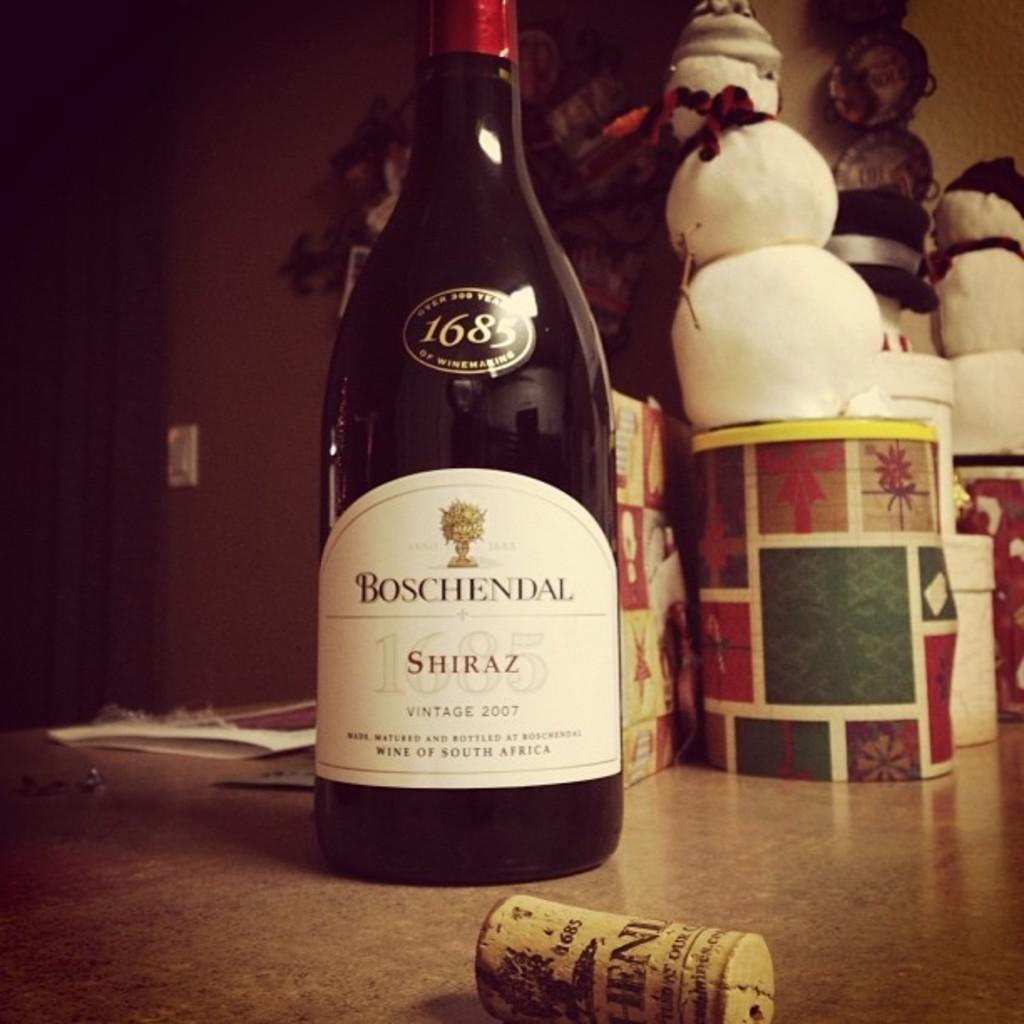bottle-glass: (307, 1, 628, 894)
